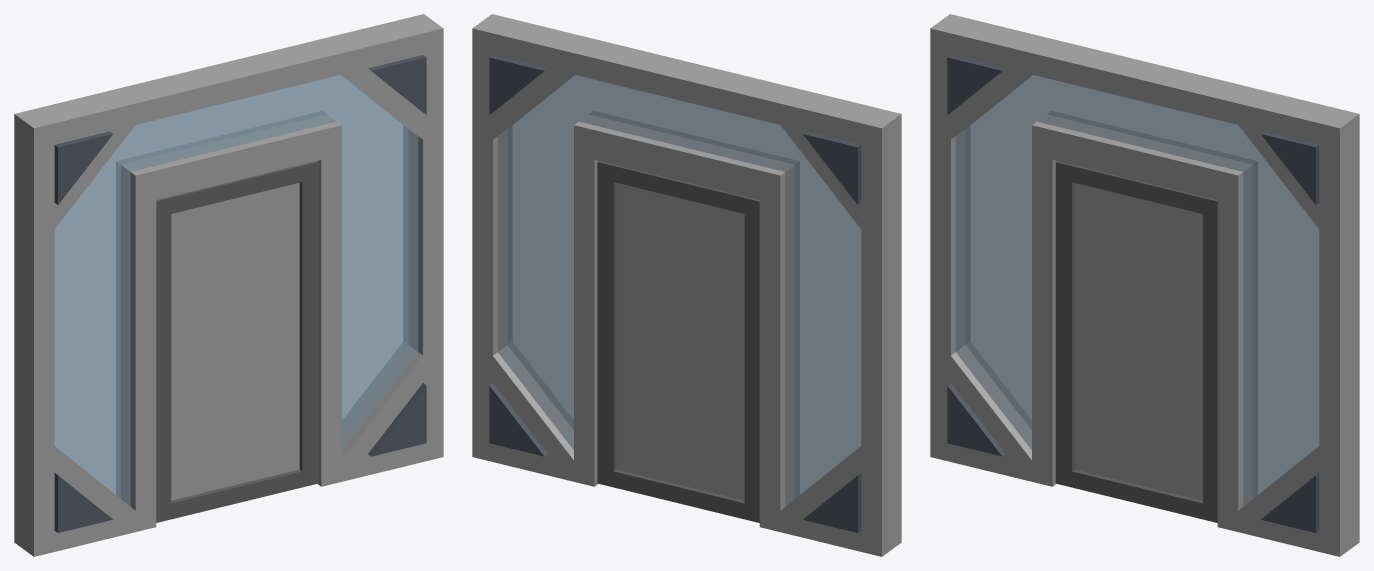
Rendered from FullDoggyDoor.fbx.
The picture shows the model from 3 angles, left to right: view 1: azimuth 30°, elevation 25°; view 2: azimuth 150°, elevation 25°; view 3: azimuth 330°, elevation 25°; orthographic projection.
Parts seen in each view (by area): view 1: pCube1, pCube2, pCube3; view 2: pCube1, pCube2, pCube3; view 3: pCube1, pCube2, pCube3.
Part boxes in pixels (x1=…): pCube1: x1=14, y1=14, x2=443, y2=556; pCube2: x1=54, y1=75, x2=418, y2=506; pCube3: x1=156, y1=161, x2=318, y2=522; pCube1: x1=472, y1=14, x2=901, y2=556; pCube2: x1=497, y1=75, x2=861, y2=506; pCube3: x1=597, y1=161, x2=759, y2=522; pCube1: x1=930, y1=14, x2=1359, y2=556; pCube2: x1=955, y1=75, x2=1319, y2=506; pCube3: x1=1055, y1=161, x2=1217, y2=522.
Size of the model in its own units: 600 by 600 by 68.16.
